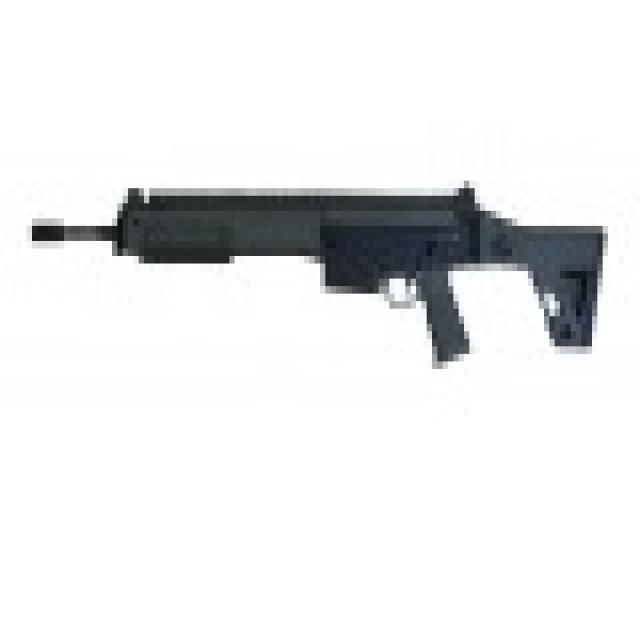Gun: (18, 144, 611, 386)
